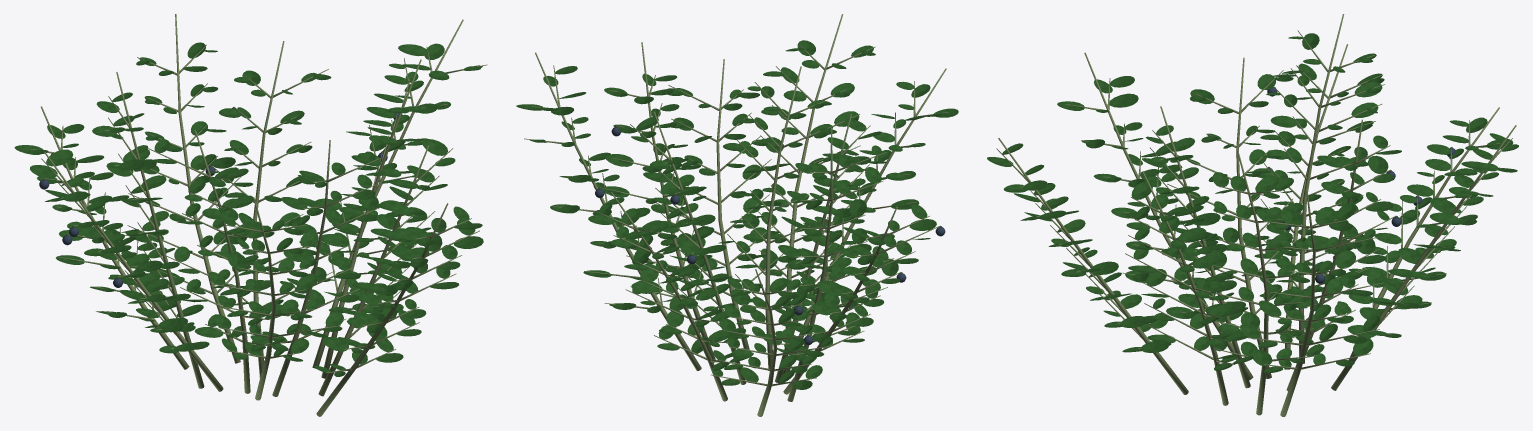
Rendered from Bilberry_Type_Cover_01_LOD0.fbx.
3 views of the same model, side by side, from view 1: azimuth 30°, elevation 25°; view 2: azimuth 150°, elevation 25°; view 3: azimuth 270°, elevation 25° (orthographic). The views are drawn at different scales.
Visible parts, largest first — view 1: Bilberry_Type_Cover_01_LOD0_Mesh; view 2: Bilberry_Type_Cover_01_LOD0_Mesh; view 3: Bilberry_Type_Cover_01_LOD0_Mesh.
Part boxes in pixels (<box>): Bilberry_Type_Cover_01_LOD0_Mesh: <box>14,14,487,416</box>; Bilberry_Type_Cover_01_LOD0_Mesh: <box>516,14,958,416</box>; Bilberry_Type_Cover_01_LOD0_Mesh: <box>987,14,1518,416</box>.
Size of the model in its own units: 66.81 by 47.83 by 72.17.
4 materials, 1 textured.
